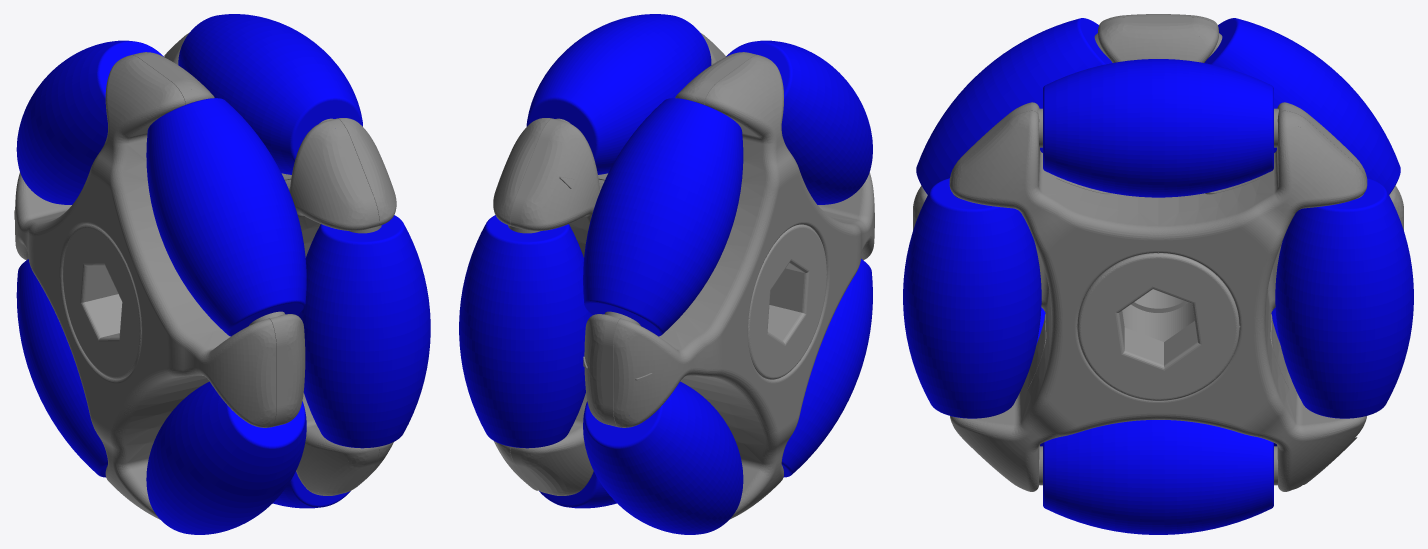
File: model_web.glb
3 views of the same model, side by side, from view 1: azimuth 30°, elevation 25°; view 2: azimuth 150°, elevation 25°; view 3: azimuth 270°, elevation 25° (orthographic).
Visible parts, largest first — view 1: Node6, Node3, Node1, Node2, Node5, Node4; view 2: Node6, Node3, Node2, Node1, Node5, Node4; view 3: Node6, Node2, Node5, Node3, Node1, Node4.
Boxes of the visible parts, x1,y1,x2,y2 form: Node6: [16, 14, 430, 534]; Node3: [14, 33, 390, 516]; Node1: [14, 40, 394, 495]; Node2: [15, 45, 396, 519]; Node5: [63, 224, 141, 379]; Node4: [22, 52, 379, 494]; Node6: [459, 14, 872, 534]; Node3: [495, 45, 874, 519]; Node2: [493, 32, 872, 501]; Node1: [493, 39, 866, 493]; Node5: [748, 224, 826, 379]; Node4: [496, 62, 864, 495]; Node6: [903, 18, 1413, 534]; Node2: [920, 21, 1403, 491]; Node5: [1076, 252, 1240, 400]; Node3: [913, 14, 1403, 491]; Node1: [913, 15, 1396, 491]; Node4: [1009, 15, 1396, 490].
Bounding box in the file's own units: 18.75 × 34.99 × 34.99.
